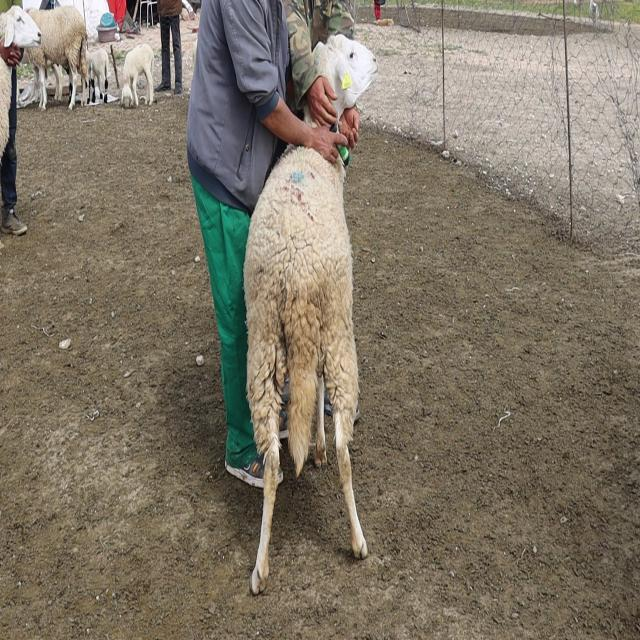Score_5: (244, 146, 368, 594)
